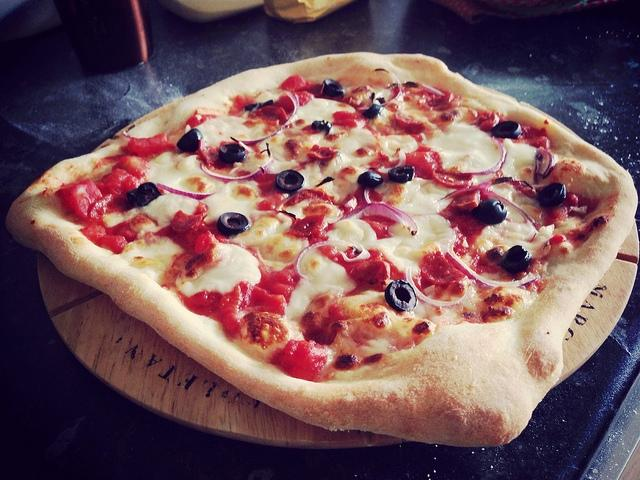onion: (442, 186, 538, 230), (444, 250, 536, 290), (240, 90, 296, 146), (294, 241, 370, 278), (438, 136, 507, 176), (404, 266, 466, 310), (200, 152, 276, 184), (346, 204, 411, 230), (358, 86, 400, 113), (157, 184, 216, 200), (376, 68, 400, 87), (238, 141, 254, 153)
tomato: (220, 281, 286, 340), (278, 340, 328, 382), (58, 178, 104, 222), (81, 221, 137, 254), (284, 206, 331, 237), (126, 132, 176, 156), (348, 260, 391, 285), (274, 90, 314, 115), (112, 155, 152, 179), (170, 210, 208, 233), (405, 152, 440, 174), (274, 270, 296, 304), (276, 76, 316, 92), (322, 304, 351, 326), (332, 111, 367, 129), (90, 195, 112, 223), (185, 110, 217, 129), (307, 144, 338, 162), (544, 204, 568, 226), (458, 189, 480, 212), (194, 229, 214, 254), (404, 97, 432, 110), (255, 199, 277, 212), (534, 136, 550, 150), (550, 234, 568, 244), (278, 106, 288, 121), (444, 92, 456, 102), (476, 115, 486, 126), (451, 167, 462, 172)
